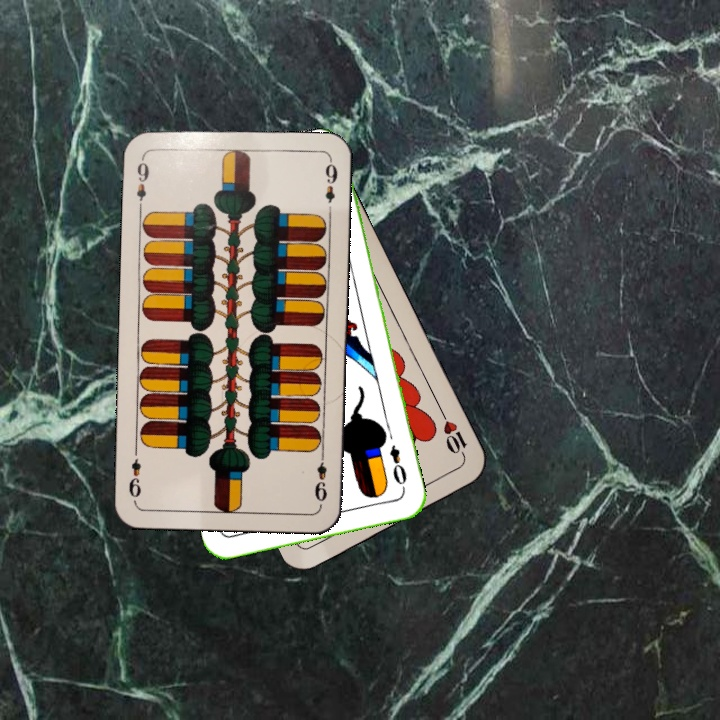E9: (132, 153, 152, 212), (310, 448, 330, 504)
EO: (385, 441, 410, 493)
H10: (437, 408, 470, 464)
